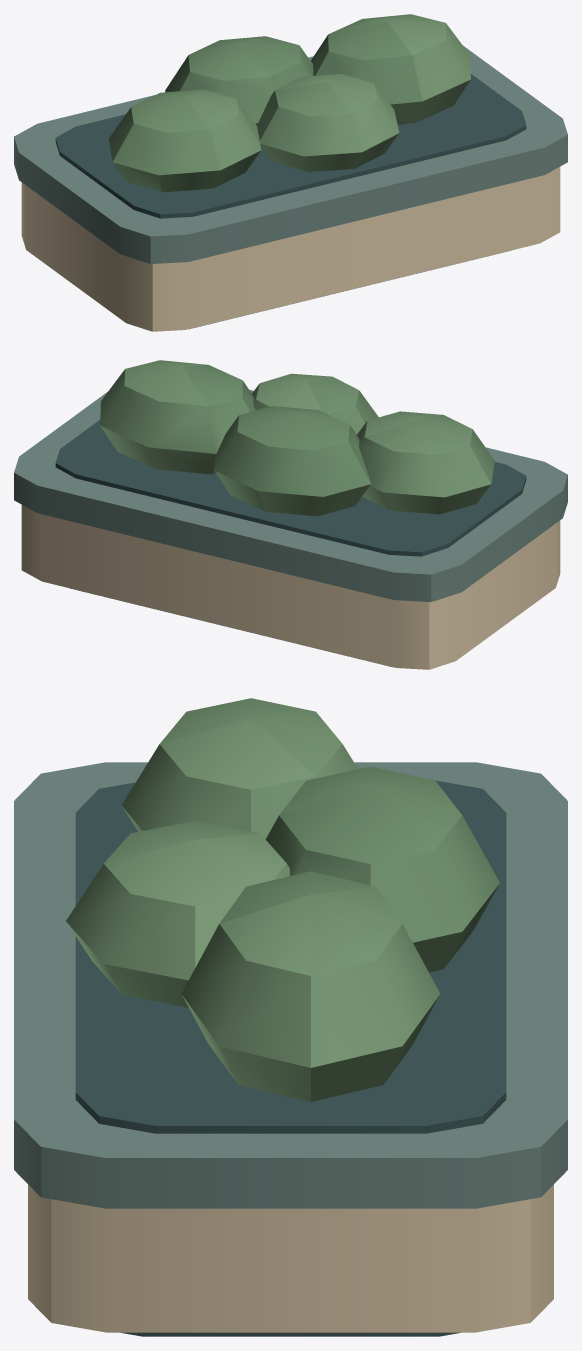
The model's file is planter-box.glb.
3 views of the same model, one above another, from view 1: azimuth 30°, elevation 25°; view 2: azimuth 150°, elevation 25°; view 3: azimuth 270°, elevation 25° (orthographic). The views are drawn at different scales.
Visible parts, largest first — view 1: planter-box; view 2: planter-box; view 3: planter-box.
Boxes of the visible parts, box(x1,y1,x2,y2) form: planter-box: box(14, 14, 567, 331); planter-box: box(14, 360, 567, 669); planter-box: box(14, 698, 567, 1336).
Size of the model in its own units: 2.35 by 0.9935 by 1.39.
Materials: 2 (2 with a texture image).
